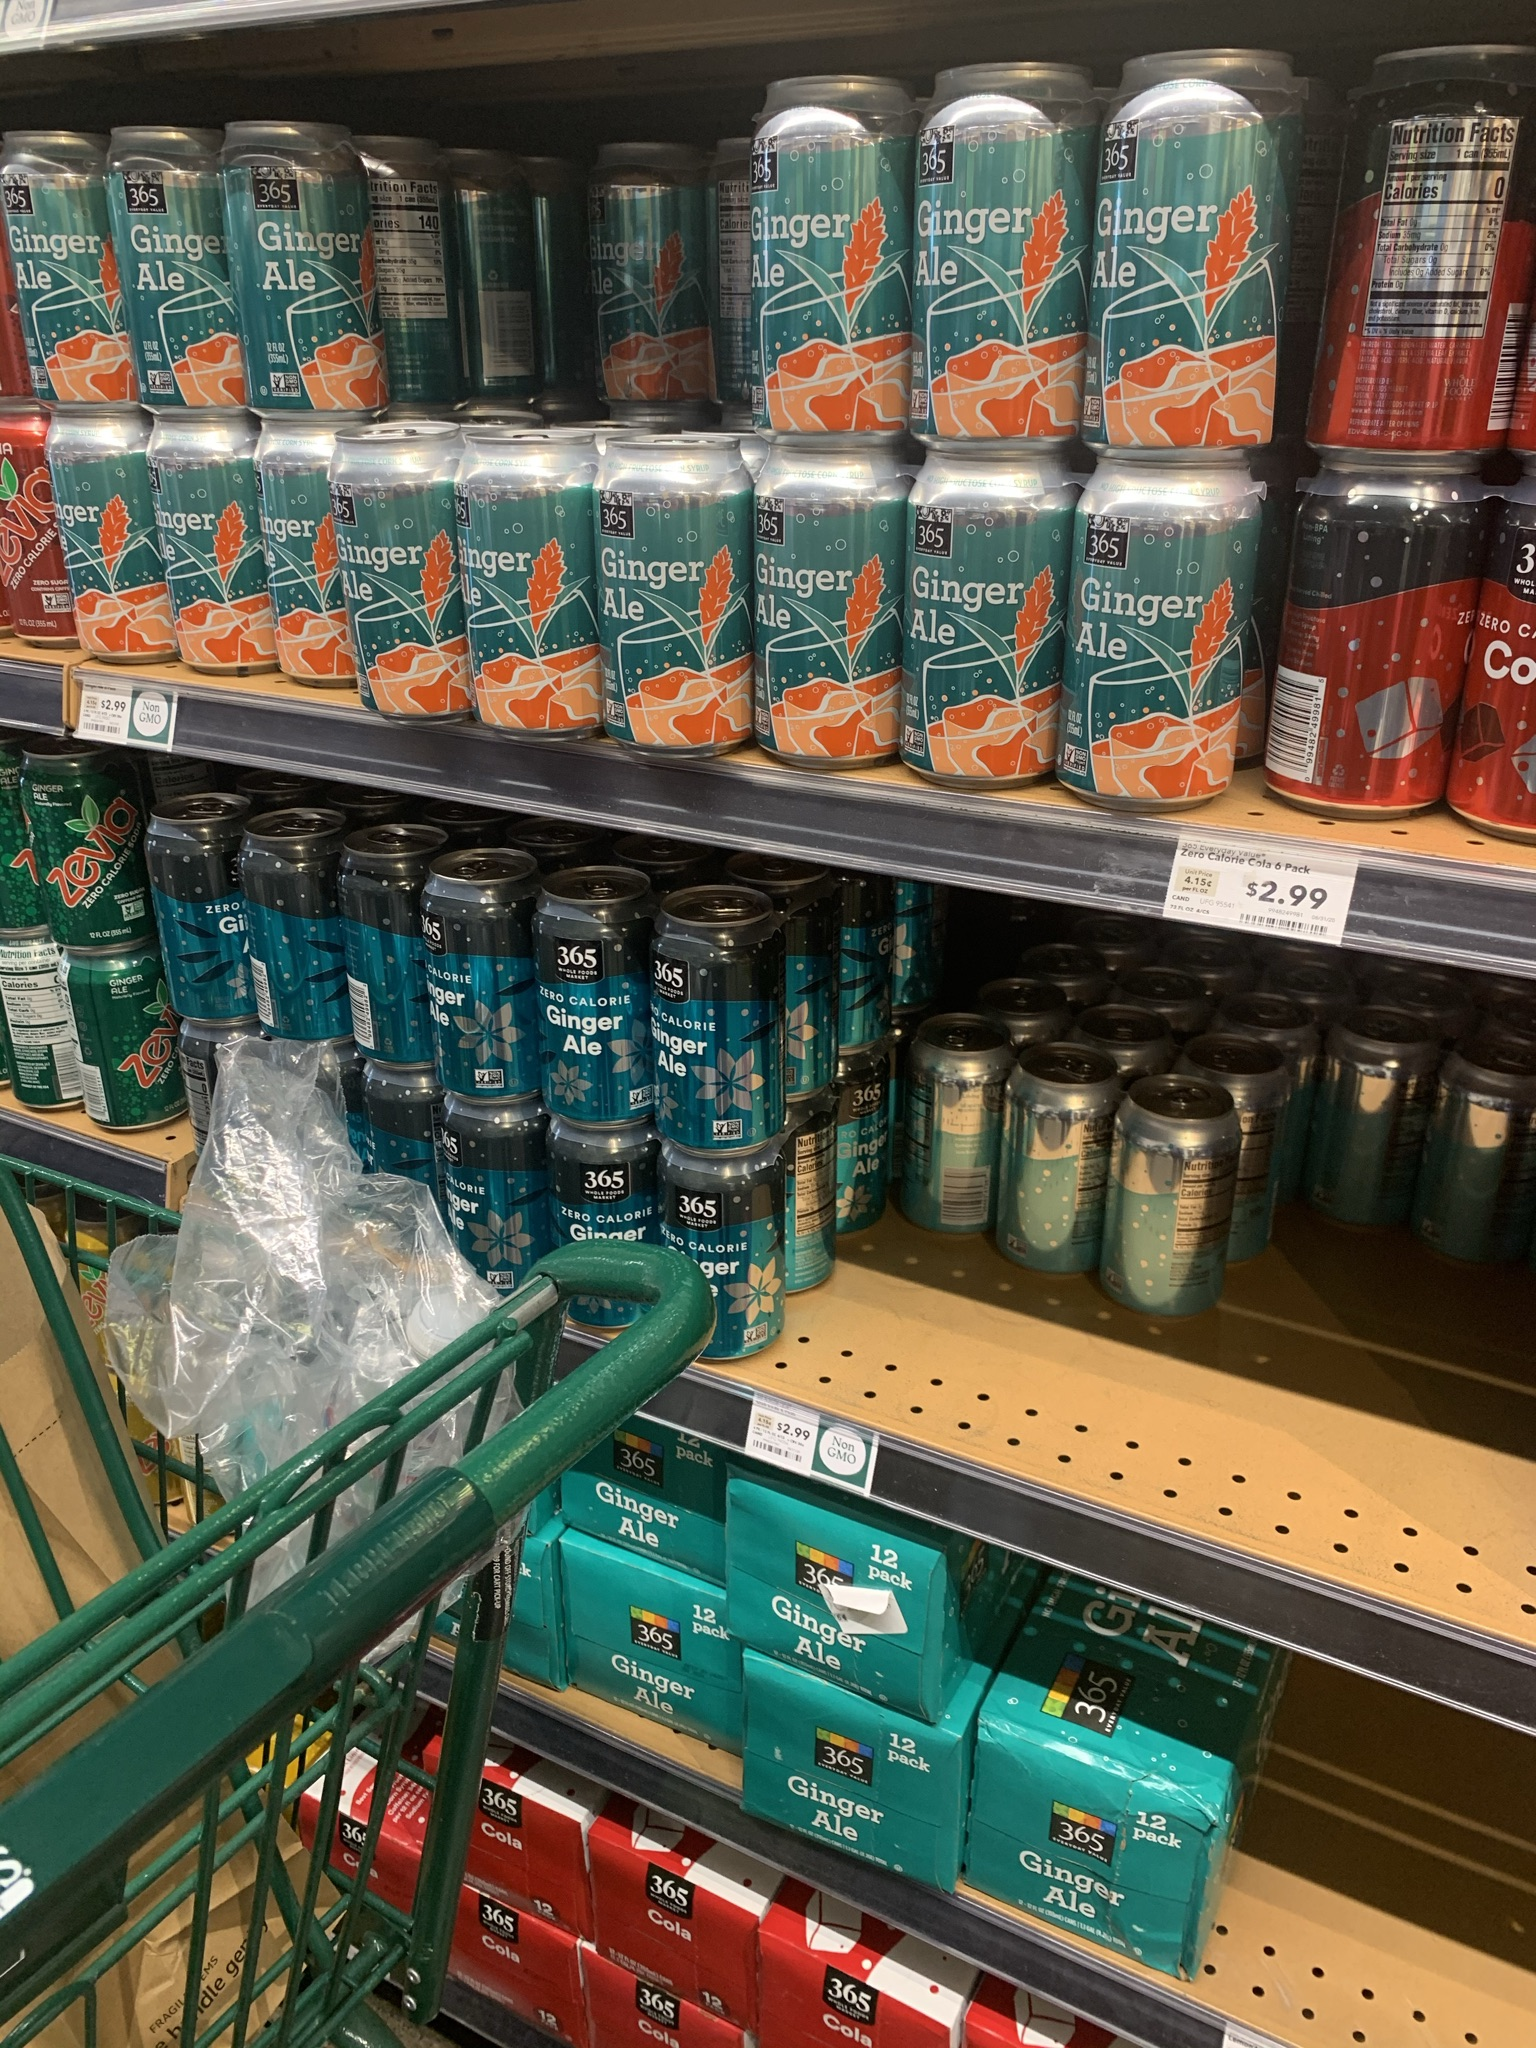ginger ale: (1004, 935, 1299, 1269), (1113, 76, 1283, 452), (984, 1706, 1217, 1956), (934, 61, 1071, 431), (757, 90, 894, 435), (465, 435, 608, 755), (594, 439, 752, 721), (1092, 471, 1220, 798), (916, 456, 1047, 764), (334, 447, 474, 724), (566, 1543, 744, 1759), (753, 455, 883, 751), (749, 1501, 944, 1692), (771, 1659, 949, 1864), (239, 135, 365, 405), (2, 147, 132, 405), (247, 439, 353, 705), (129, 139, 227, 426), (647, 914, 771, 1142), (419, 871, 532, 1111), (42, 429, 160, 648), (144, 447, 265, 651), (347, 842, 439, 1105), (542, 898, 642, 1119), (248, 834, 342, 1050), (153, 816, 248, 1009), (552, 1150, 670, 1271), (666, 1161, 762, 1285)
